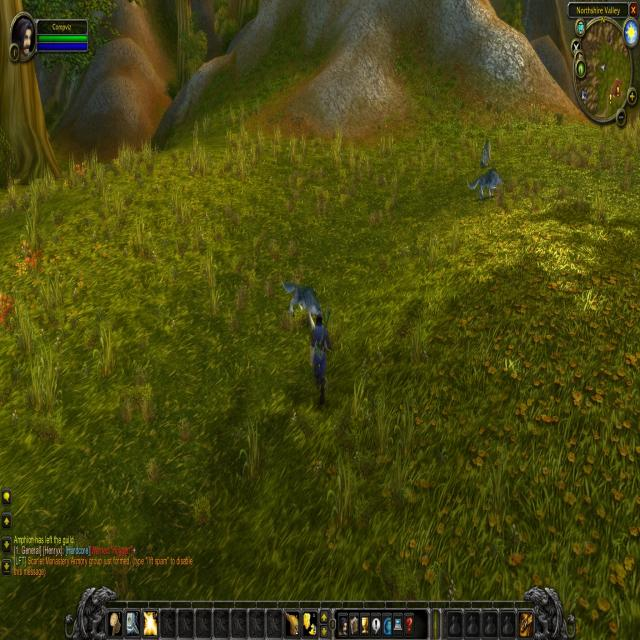wolf: (278, 268, 326, 334), (463, 166, 506, 206), (476, 132, 496, 170)
